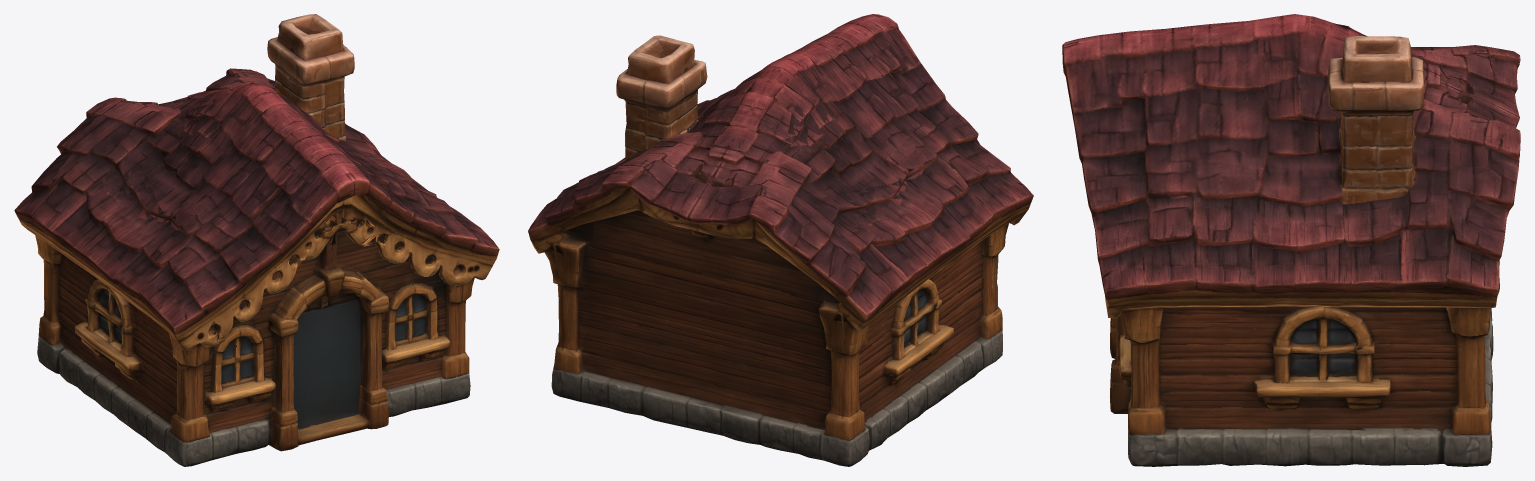
The model's file is house.glb.
3 views of the same model, side by side, from view 1: azimuth 30°, elevation 25°; view 2: azimuth 150°, elevation 25°; view 3: azimuth 270°, elevation 25° (orthographic). The views are drawn at different scales.
Bounding box in the file's own units: 0.9945 × 0.8993 × 0.9653.
1 material, 1 textured.
